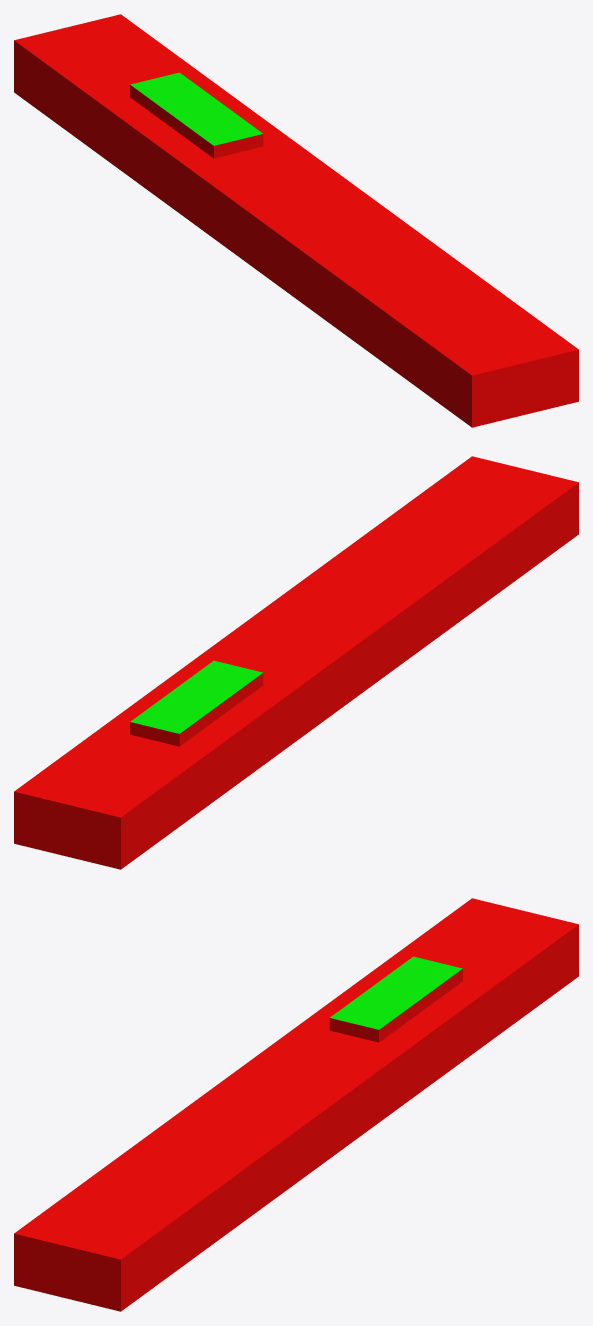
File: labeled.obj
The picture shows the model from 3 angles, top to bottom: view 1: azimuth 30°, elevation 25°; view 2: azimuth 150°, elevation 25°; view 3: azimuth 330°, elevation 25°; orthographic projection.
Bounding box in the file's own units: 0.02 × 0.0116 × 0.1486.
